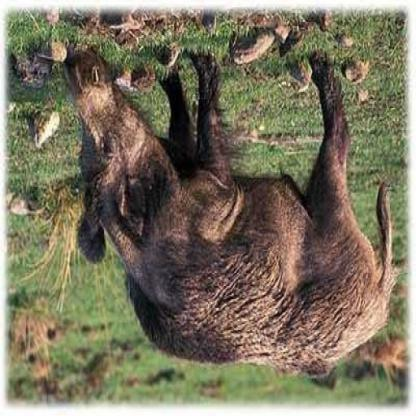boar: (58, 26, 410, 383)
